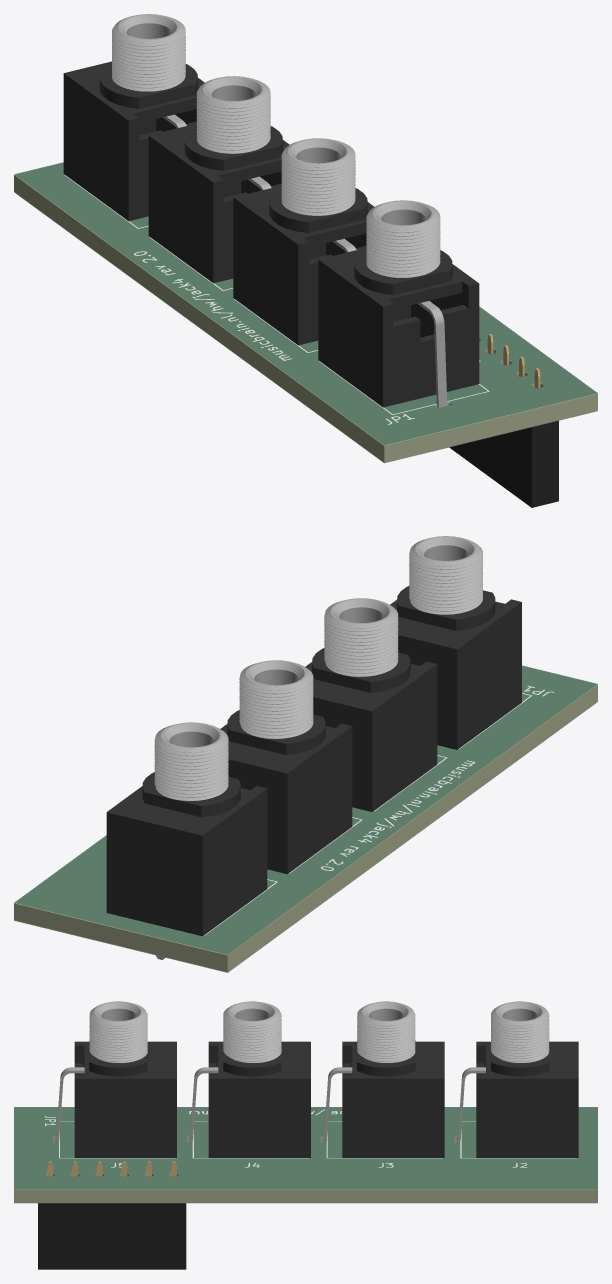
Rendered from musicbrain-jack4.glb.
3 views of the same model, one above another, from view 1: azimuth 30°, elevation 25°; view 2: azimuth 150°, elevation 25°; view 3: azimuth 270°, elevation 25° (orthographic). The views are drawn at different scales.
Parts seen in each view (by area): view 1: =>[0:1:1:5] (×4), =>[0:1:1:12], =>[0:1:1:10], =>[0:1:1:7], =>[0:1:1:8], =>[0:1:1:11]; view 2: =>[0:1:1:5] (×4), =>[0:1:1:12], =>[0:1:1:10], =>[0:1:1:8], =>[0:1:1:11]; view 3: =>[0:1:1:5] (×4), =>[0:1:1:12], =>[0:1:1:10], =>[0:1:1:7], =>[0:1:1:8], =>[0:1:1:11].
Boxes of the visible parts, box(x1,y1,x2,y2) form: =>[0:1:1:5] (×4): box(63, 14, 479, 407); =>[0:1:1:12]: box(14, 163, 597, 462); =>[0:1:1:10]: box(14, 162, 597, 445); =>[0:1:1:7]: box(449, 334, 558, 507); =>[0:1:1:8]: box(65, 175, 489, 424); =>[0:1:1:11]: box(14, 192, 597, 463); =>[0:1:1:5] (×4): box(106, 536, 521, 936); =>[0:1:1:12]: box(14, 666, 597, 972); =>[0:1:1:10]: box(14, 665, 597, 954); =>[0:1:1:8]: box(204, 685, 554, 935); =>[0:1:1:11]: box(14, 702, 597, 972); =>[0:1:1:5] (×4): box(56, 1001, 578, 1157); =>[0:1:1:12]: box(14, 1108, 597, 1202); =>[0:1:1:10]: box(14, 1107, 597, 1189); =>[0:1:1:7]: box(38, 1161, 186, 1269); =>[0:1:1:8]: box(45, 1109, 576, 1167); =>[0:1:1:11]: box(14, 1203, 597, 1203).
Bounding box in the file's own units: 0.02 × 0.0247 × 0.06.
